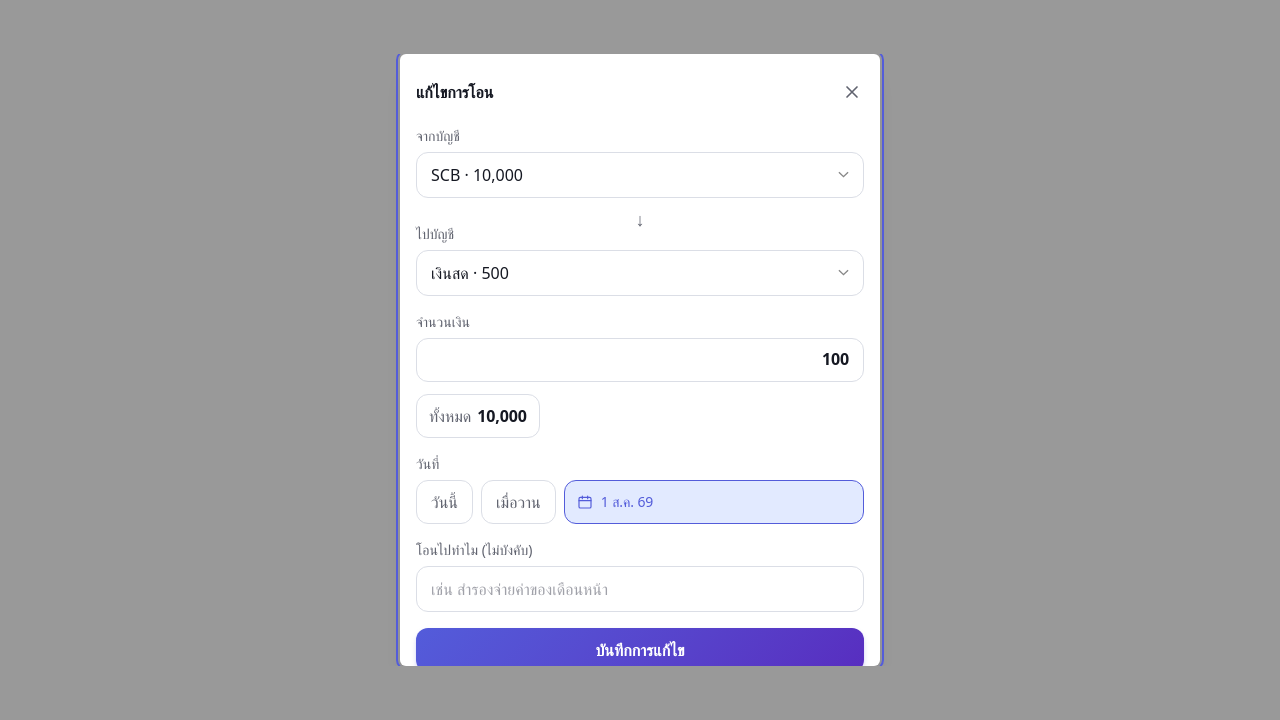
โอนทั้งจำนวน › แก้การโอนเดิมก็ใช้ปุ่มได้ ไม่ใช่มีแต่ตอนสร้างใหม่
Click the button "ทั้งหมด 10,000" at (478,416), box [416,394,540,438]
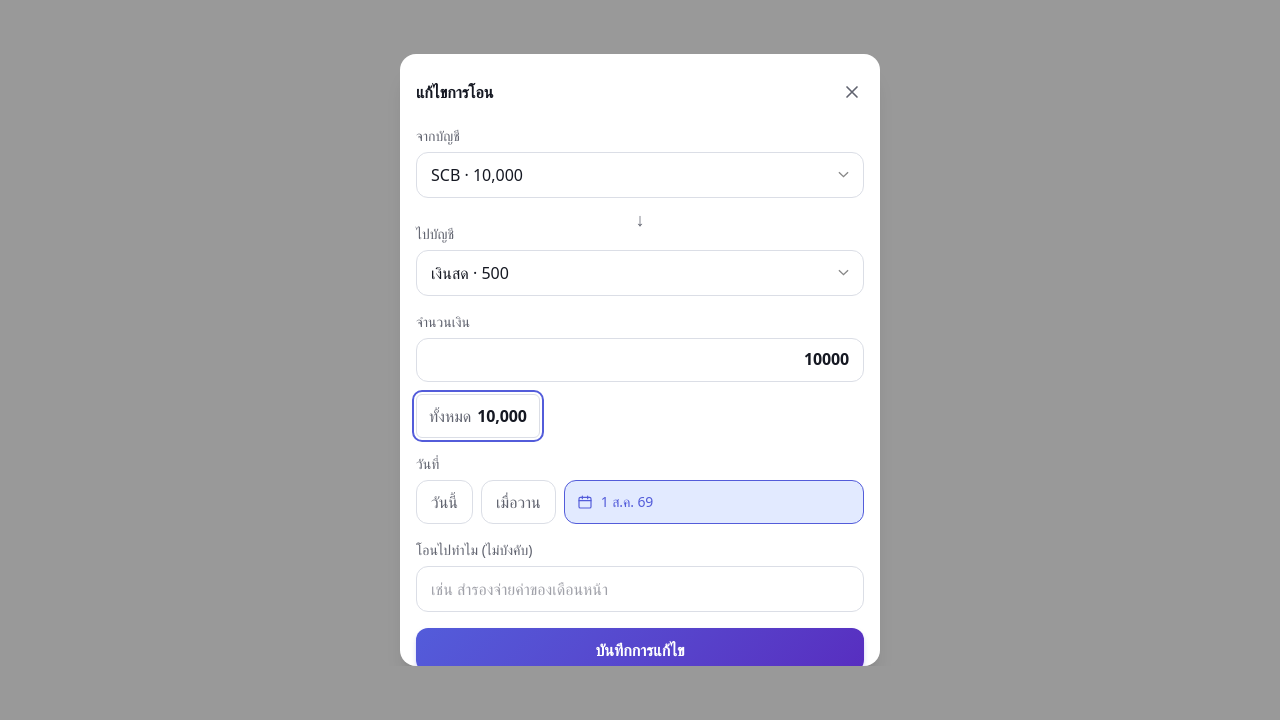
Expected: the field labelled "จำนวนเงิน" holds "10000", [416,338,864,382]
